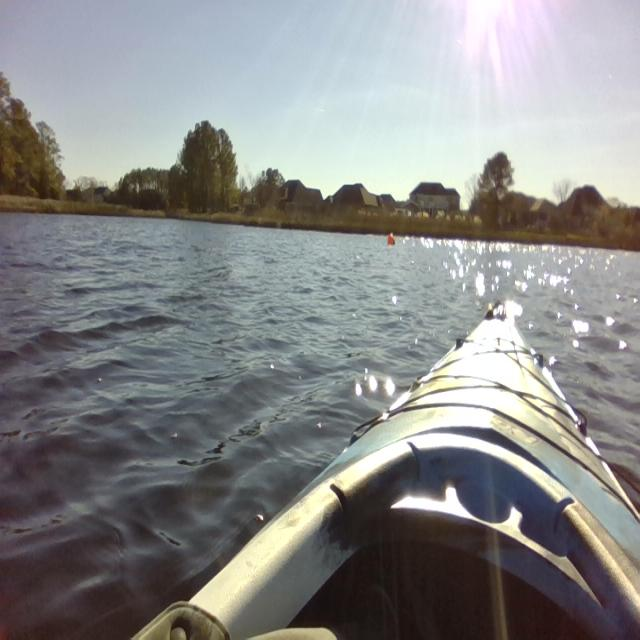Buoy: (385, 226, 398, 252)
